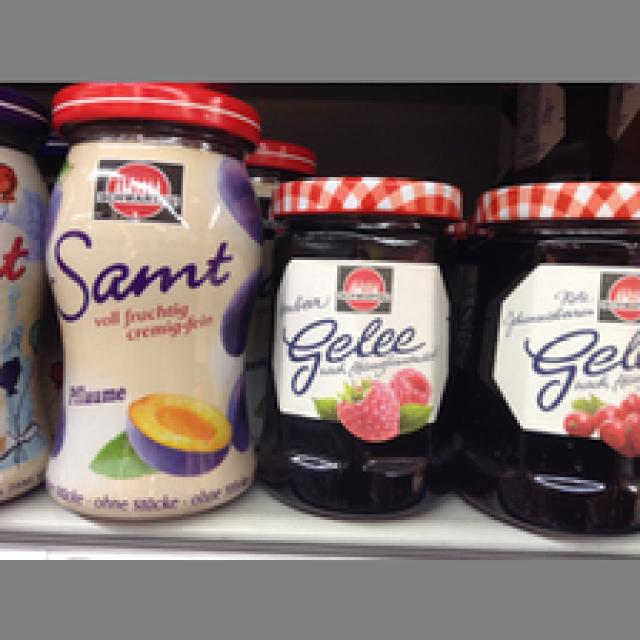groceries: (40, 83, 257, 517), (257, 171, 466, 520), (466, 183, 637, 537)
